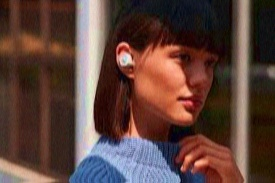earphone: (116, 44, 135, 80)
